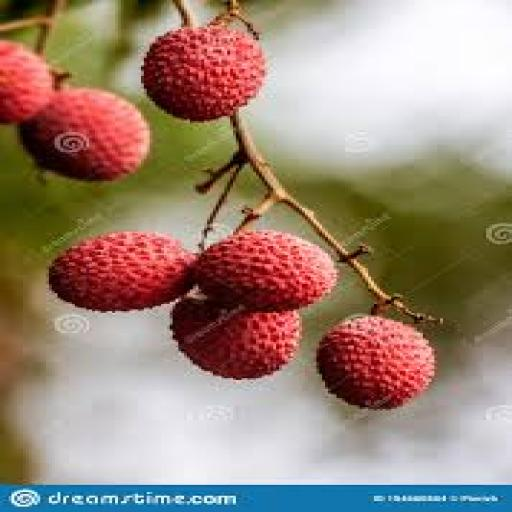lychee: (21, 87, 149, 180), (141, 26, 264, 121), (49, 232, 195, 311), (196, 230, 336, 311), (317, 317, 434, 408), (173, 299, 302, 379), (0, 40, 54, 123)
